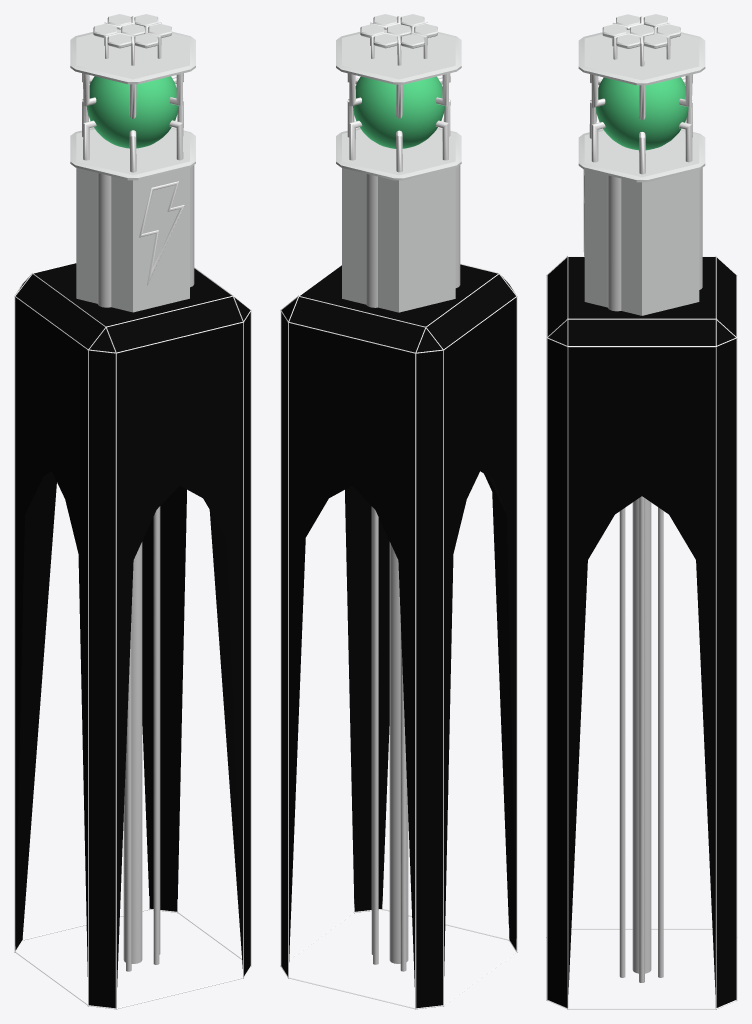
The model's file is Dave_SctEdit_V2.fbx.
The picture shows the model from 3 angles, left to right: view 1: azimuth 30°, elevation 25°; view 2: azimuth 150°, elevation 25°; view 3: azimuth 270°, elevation 25°; orthographic projection.
Parts seen in each view (by area): view 1: Body, PowerStation, Cylinder010, EnergySphere, Cylinder016, Cylinder017, Cylinder015, Cylinder011, Cylinder019; view 2: Body, PowerStation, Cylinder010, EnergySphere, Cylinder014, Cylinder013, Cylinder018, Cylinder011, Cylinder017; view 3: Body, PowerStation, Cylinder010, EnergySphere, Cylinder016, Cylinder011, Cylinder014, Cylinder019, Cylinder018.
Boxes of the visible parts, bbox=[...] form: Body: bbox=[15, 263, 250, 1008]; PowerStation: bbox=[14, 14, 251, 1009]; Cylinder010: bbox=[123, 542, 142, 963]; EnergySphere: bbox=[86, 76, 178, 148]; Cylinder016: bbox=[153, 507, 159, 964]; Cylinder017: bbox=[97, 173, 111, 307]; Cylinder015: bbox=[126, 614, 131, 971]; Cylinder011: bbox=[159, 506, 160, 954]; Cylinder019: bbox=[190, 165, 194, 287]; Body: bbox=[281, 264, 516, 1008]; PowerStation: bbox=[280, 14, 517, 1009]; Cylinder010: bbox=[389, 542, 408, 963]; EnergySphere: bbox=[353, 76, 444, 148]; Cylinder014: bbox=[373, 508, 378, 964]; Cylinder013: bbox=[400, 623, 406, 971]; Cylinder018: bbox=[366, 174, 377, 307]; Cylinder011: bbox=[371, 506, 372, 954]; Cylinder017: bbox=[455, 165, 460, 287]; Body: bbox=[547, 257, 736, 1007]; PowerStation: bbox=[546, 14, 737, 1009]; Cylinder010: bbox=[632, 498, 651, 973]; EnergySphere: bbox=[596, 77, 688, 150]; Cylinder016: bbox=[619, 508, 625, 977]; Cylinder011: bbox=[639, 496, 644, 982]; Cylinder014: bbox=[658, 507, 663, 977]; Cylinder019: bbox=[607, 175, 621, 311]; Cylinder018: bbox=[699, 168, 702, 289].
Size of the model in its own units: 797 by 797 by 4313.
